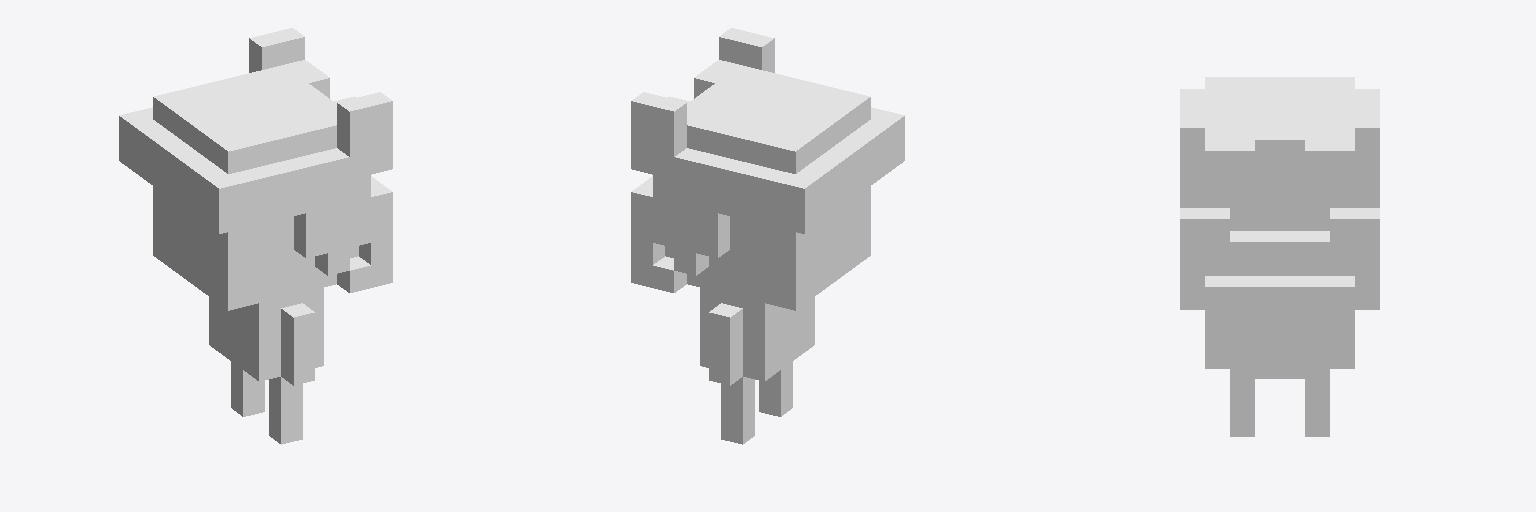
The model's file is ArauzMini.obj.
3 renders of one model, left to right at view 1: azimuth 30°, elevation 25°; view 2: azimuth 150°, elevation 25°; view 3: azimuth 270°, elevation 25°, orthographic.
Visible parts, largest first — view 1: object 1; view 2: object 1; view 3: object 1.
Boxes of the visible parts, x1=… form: object 1: x1=119, y1=28, x2=392, y2=444; object 1: x1=631, y1=28, x2=904, y2=444; object 1: x1=1180, y1=77, x2=1379, y2=436.
Bounding box in the file's own units: 0.8 × 1.5 × 0.8.